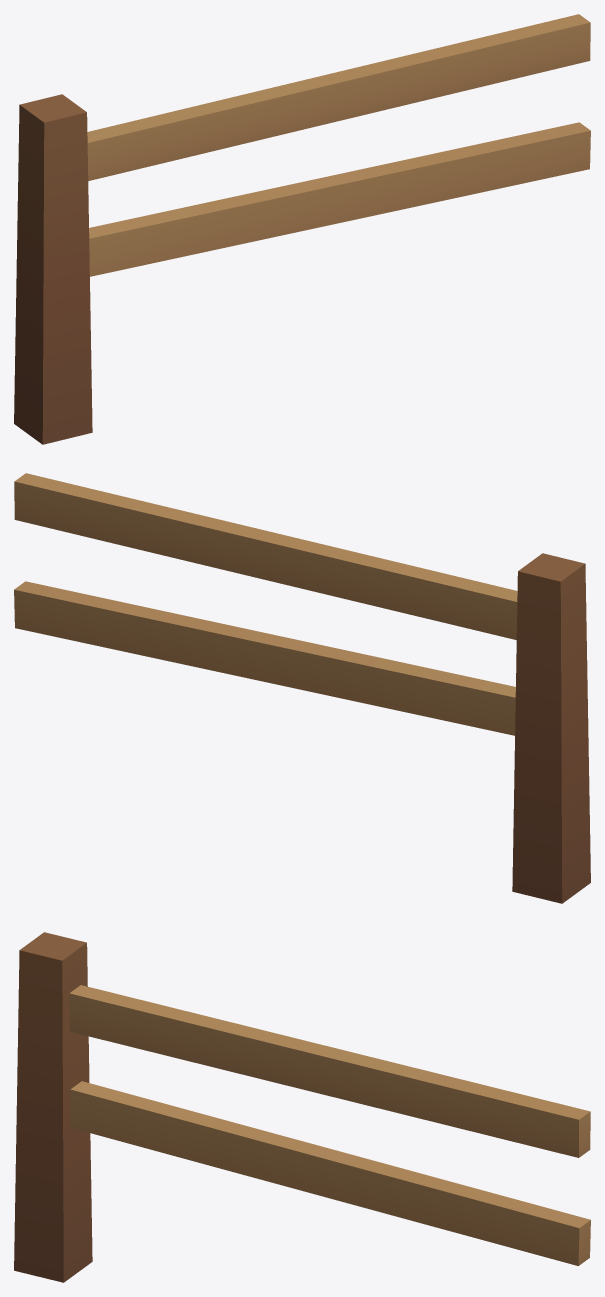
The model's file is fence_wood.glb.
The picture shows the model from 3 angles, top to bottom: view 1: azimuth 30°, elevation 25°; view 2: azimuth 150°, elevation 25°; view 3: azimuth 330°, elevation 25°; orthographic projection.
Visible parts, largest first — view 1: fence_wood; view 2: fence_wood; view 3: fence_wood.
Part boxes in pixels (x1,y1,x2,y2): fence_wood: (14,14,590,444); fence_wood: (14,473,590,903); fence_wood: (14,932,590,1282).
Size of the model in its own units: 8.38 by 4.6 by 0.75.
1 material, 1 textured.
